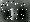person: (13, 9, 18, 21)
